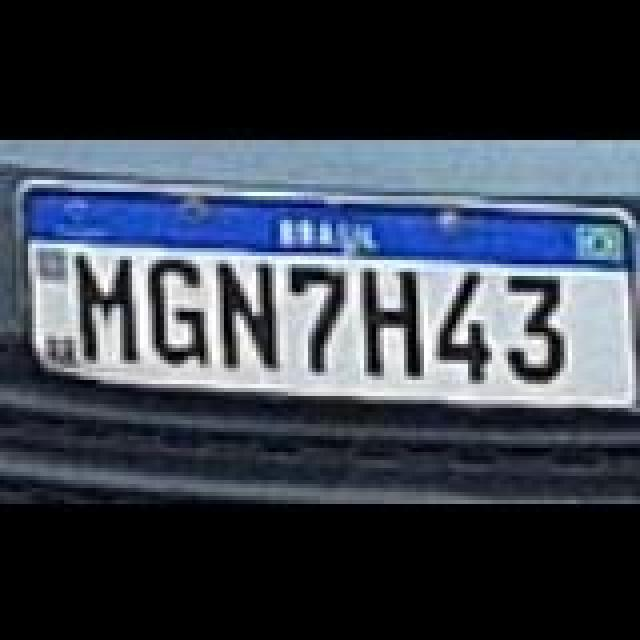3: (490, 266, 582, 382)
4: (424, 266, 504, 382)
7: (284, 260, 364, 372)
G: (140, 252, 220, 364)
H: (354, 262, 438, 378)
M: (66, 250, 150, 366)
N: (208, 256, 288, 368)
